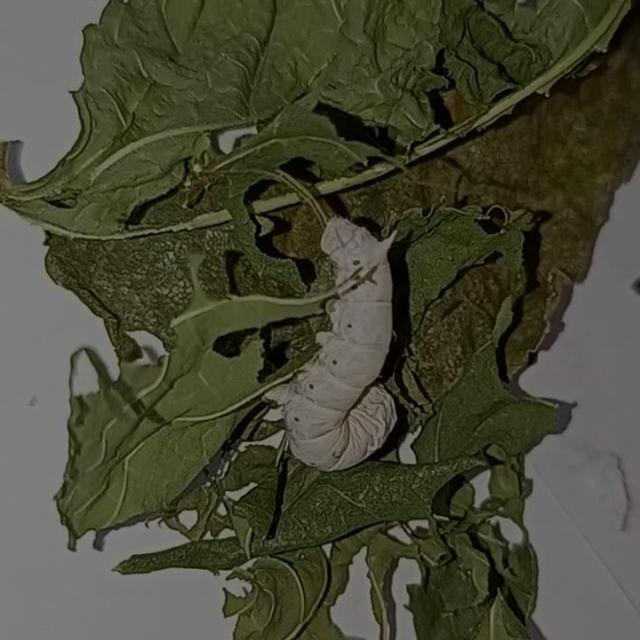Healthy: (247, 184, 436, 489)
